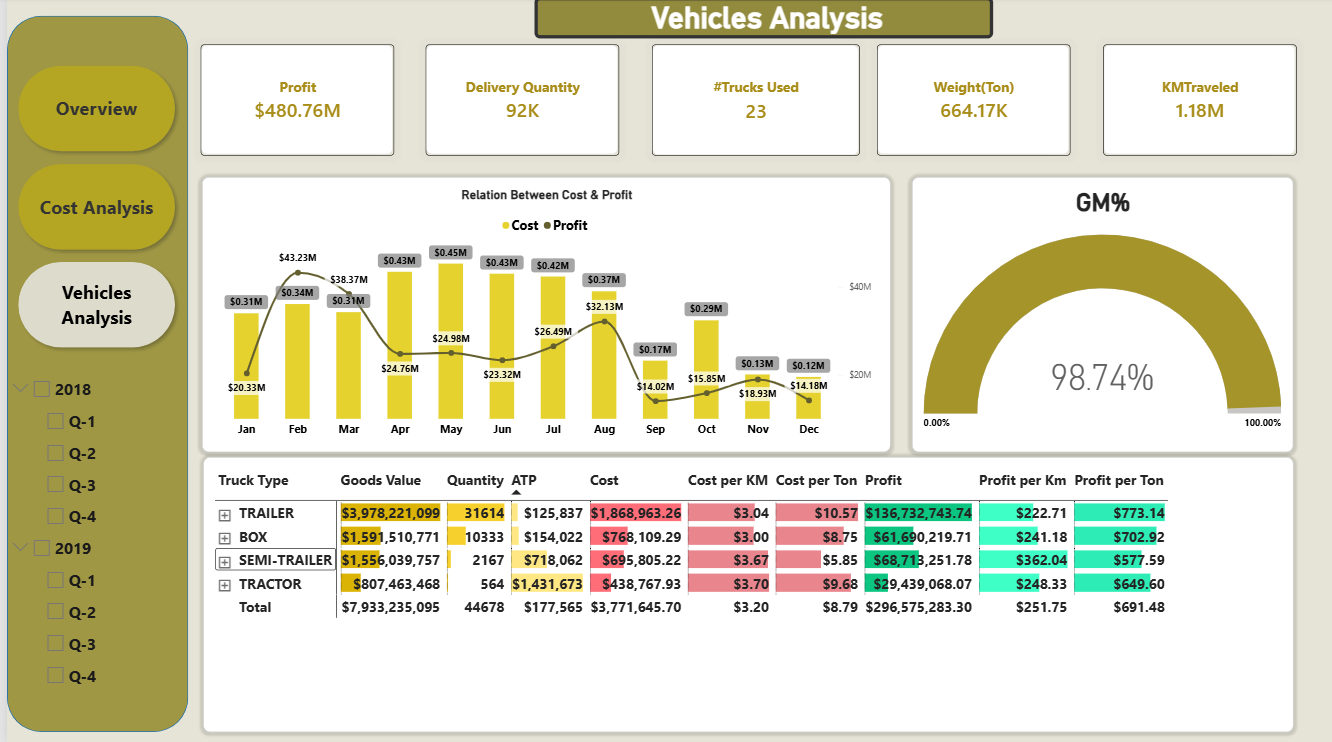

The page's visual inventory and layout, read from the dashboard file:
{"tool":"powerbi","page":{"name":"Vehicles Analysis","canvas":[1920,1080],"ordinal":2},"visuals":[{"type":"cardVisual","fields":{"Data":["Calculations.Profit"]},"box":[280.5,68.8,279.9,160.5],"z":0},{"type":"cardVisual","fields":{"Data":["Calculations.Delivery Quantity"]},"box":[607.1,68.8,279.9,160.5],"z":1000},{"type":"cardVisual","fields":{"Data":["Calculations.KMTraveled"]},"box":[1587.1,68.8,279.9,160.5],"z":2000},{"type":"cardVisual","fields":{"Data":["Calculations.#Trucks Used"]},"box":[933.8,68.8,300.4,161.1],"z":3000},{"type":"shape","box":[0,27.1,262.4,1036.9],"z":4000},{"type":"gauge","title":"GM%","fields":{"Y":["Calculations.GM%"]},"box":[1310.2,260.6,551.9,398.1],"z":5000},{"type":"cardVisual","fields":{"Data":["Calculations.Weight(Ton)"]},"box":[1260.4,68.8,279.9,160.5],"z":6000},{"type":"lineClusteredColumnComboChart","title":"Relation Between KM Traveled & liters","fields":{"Category":["Calendar.Month"],"Y":["Calculations.Total Cost"],"Y2":["Calculations.Profit"]},"box":[282.3,260.6,997.1,398.1],"z":7000},{"type":"pivotTable","title":"Relation Between KM Traveled & liters","fields":{"Rows":["dVeiculo.Truck Type","dVeiculo.Plate"],"Values":["Calculations.Goods Value","Calculations.Delivery Quantity","Calculations.ATP","Calculations.Total Cost","Calculations.Cost prt KM","Calculations.Cost per Ton","Calculations.Profit","Calculations.Profit per Km","Calculations.Profit per Ton"]},"box":[284.1,666,1578,398.1],"z":8000},{"type":"slicer","fields":{"Values":["Calendar.Year","Calendar.Quarter"]},"box":[0,545.5,300,487.3],"z":11001},{"type":"pageNavigator","box":[7.3,90.9,245.5,427.3],"z":11002},{"type":"cardVisual","fields":{"Data":["Var Calculations.YOY% (profit)"]},"box":[436,72,150,56],"z":11003},{"type":"cardVisual","fields":{"Data":["Var Calculations.YOY% (Delivery Quantity)"]},"box":[746,72,214,56],"z":11004},{"type":"cardVisual","fields":{"Data":["Var Calculations.YOY% (trucksused)"]},"box":[1102,68,176,60],"z":11005},{"type":"cardVisual","fields":{"Data":["Var Calculations.YOY% (Tons)"]},"box":[1420,72,152,56],"z":11006},{"type":"cardVisual","fields":{"Data":["Var Calculations.YOY% (KMtraveled)"]},"box":[1728,72,178,56],"z":11007},{"type":"textbox","box":[764,0,664,60],"z":11008}]}

Visuals, with their boxes in screenshot pixels (x1, y1, x2, y2), scaled from the page's 1920x1080 canvas onto the 1332x742 screenshot:
cardVisual - Calculations.Profit: {"x1": 195, "y1": 47, "x2": 389, "y2": 158}
cardVisual - Calculations.Delivery Quantity: {"x1": 421, "y1": 47, "x2": 615, "y2": 158}
cardVisual - Calculations.KMTraveled: {"x1": 1101, "y1": 47, "x2": 1295, "y2": 158}
cardVisual - Calculations.#Trucks Used: {"x1": 648, "y1": 47, "x2": 856, "y2": 158}
shape: {"x1": 0, "y1": 19, "x2": 182, "y2": 731}
"GM%" gauge: {"x1": 909, "y1": 179, "x2": 1292, "y2": 453}
cardVisual - Calculations.Weight(Ton): {"x1": 874, "y1": 47, "x2": 1069, "y2": 158}
"Relation Between KM Traveled & liters" lineClusteredColumnComboChart: {"x1": 196, "y1": 179, "x2": 888, "y2": 453}
"Relation Between KM Traveled & liters" pivotTable: {"x1": 197, "y1": 458, "x2": 1292, "y2": 731}
slicer - Calendar.Year x Calendar.Quarter: {"x1": 0, "y1": 375, "x2": 208, "y2": 710}
pageNavigator: {"x1": 5, "y1": 62, "x2": 175, "y2": 356}
cardVisual - Var Calculations.YOY% (profit): {"x1": 302, "y1": 49, "x2": 407, "y2": 88}
cardVisual - Var Calculations.YOY% (Delivery Quantity): {"x1": 518, "y1": 49, "x2": 666, "y2": 88}
cardVisual - Var Calculations.YOY% (trucksused): {"x1": 765, "y1": 47, "x2": 887, "y2": 88}
cardVisual - Var Calculations.YOY% (Tons): {"x1": 985, "y1": 49, "x2": 1091, "y2": 88}
cardVisual - Var Calculations.YOY% (KMtraveled): {"x1": 1199, "y1": 49, "x2": 1322, "y2": 88}
textbox: {"x1": 530, "y1": 0, "x2": 991, "y2": 41}
